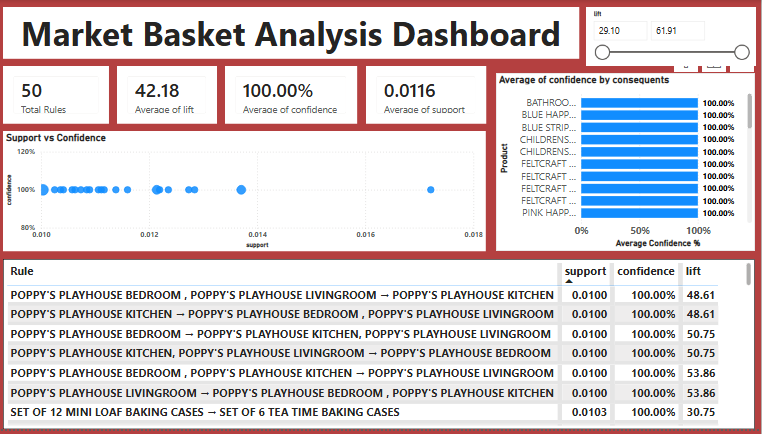

What the dashboard file says about the page in this screenshot:
{"tool":"powerbi","page":{"name":"Page 1","canvas":[1280,720],"ordinal":0},"visuals":[{"type":"scatterChart","title":"Support vs Confidence","fields":{"Size":["CountNonNull(mba_rules.lift)"],"X":["mba_rules.support"],"Y":["mba_rules.confidence"]},"box":[6.7,220.1,811.3,201.6],"z":0},{"type":"tableEx","fields":{"Values":["mba_rules.Rule","mba_rules.support","mba_rules.confidence","mba_rules.lift"]},"box":[6.7,435.1,1263.2,285.6],"z":1000},{"type":"clusteredBarChart","fields":{"Category":["mba_rules.consequents"],"Y":["Avg(mba_rules.confidence)"]},"box":[834.9,122.6,435.1,299],"z":2000},{"type":"slicer","fields":{"Values":["mba_rules.lift"]},"box":[986,11.8,283.9,99.1],"z":3000},{"type":"textbox","box":[6.7,11.8,967.6,87.3],"z":4000},{"type":"cardVisual","fields":{"Data":["Avg(mba_rules.lift)"]},"box":[198.2,110.9,168,97.4],"z":4001},{"type":"cardVisual","fields":{"Data":["Avg(mba_rules.confidence)"]},"box":[379.6,110.9,221.7,97.4],"z":4002},{"type":"cardVisual","fields":{"Data":["Avg(mba_rules.support)"]},"box":[616.5,110.9,201.6,97.4],"z":4003},{"type":"cardVisual","fields":{"Data":["mba_rules.Total Rules"]},"box":[6.7,110.9,178.1,97.4],"z":4004}]}

Visuals, with their boxes in screenshot pixels (x1, y1, x2, y2), scaled from the page's 1280x720 canvas onto the 762x434 screenshot:
"Support vs Confidence" scatterChart: x1=4 y1=133 x2=487 y2=254
tableEx - mba_rules.Rule x mba_rules.support: x1=4 y1=262 x2=756 y2=433
clusteredBarChart - mba_rules.consequents x Avg(mba_rules.confidence): x1=497 y1=74 x2=756 y2=254
slicer - mba_rules.lift: x1=587 y1=7 x2=756 y2=67
textbox: x1=4 y1=7 x2=580 y2=60
cardVisual - Avg(mba_rules.lift): x1=118 y1=67 x2=218 y2=126
cardVisual - Avg(mba_rules.confidence): x1=226 y1=67 x2=358 y2=126
cardVisual - Avg(mba_rules.support): x1=367 y1=67 x2=487 y2=126
cardVisual - mba_rules.Total Rules: x1=4 y1=67 x2=110 y2=126
